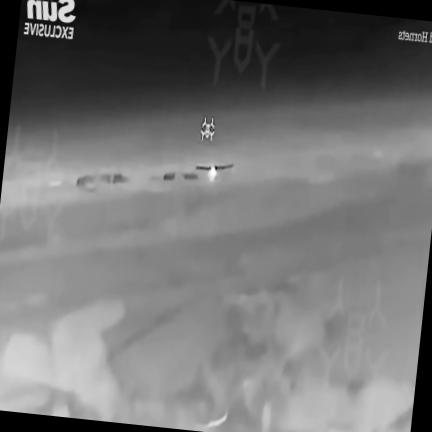Shahed: (195, 164, 232, 181)
